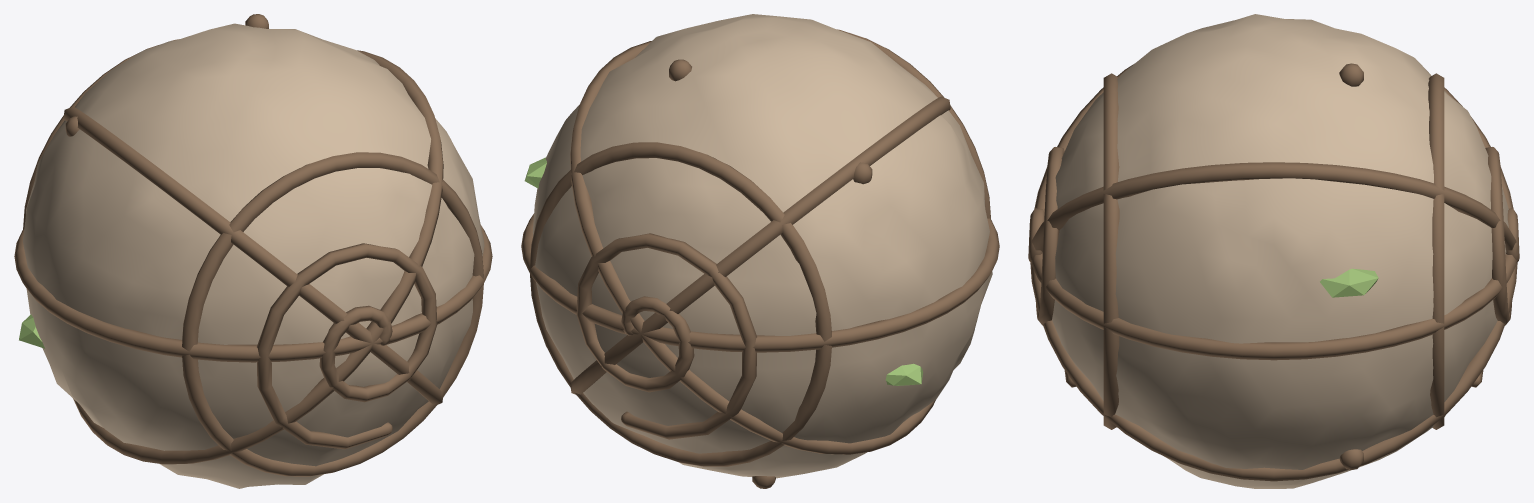
The model's file is boulder.glb.
3 renders of one model, left to right at view 1: azimuth 30°, elevation 25°; view 2: azimuth 150°, elevation 25°; view 3: azimuth 270°, elevation 25°, orthographic. The views are drawn at different scales.
Parts seen in each view (by area): view 1: boulder; view 2: boulder; view 3: boulder.
Boxes of the visible parts, x1,y1,x2,y2 form: boulder: (14, 14, 492, 488); boulder: (521, 14, 999, 488); boulder: (1028, 14, 1519, 488).
Bounding box in the file's own units: 1.87 × 1.81 × 1.88.
